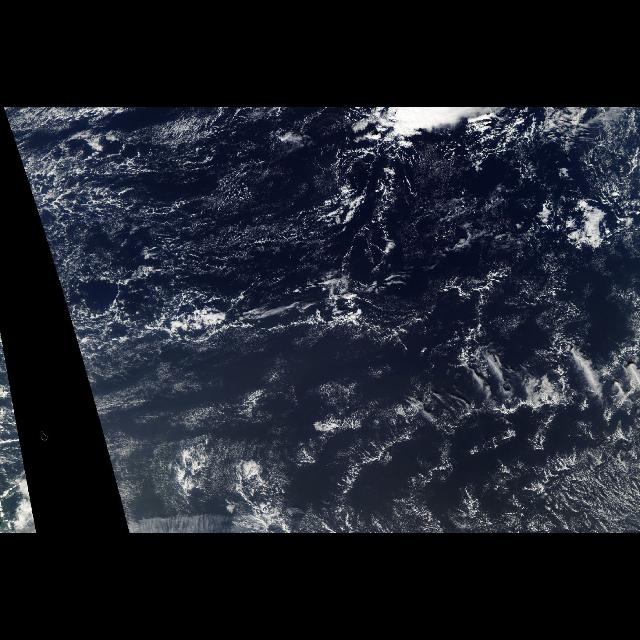Gravel: (12, 108, 640, 362)
Sugar: (76, 341, 404, 515), (8, 378, 34, 514)
